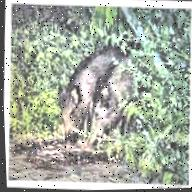boar: (46, 41, 122, 147), (85, 45, 151, 155)
